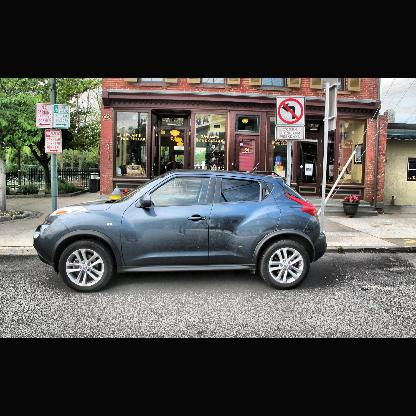Nissan Juke Hatchback 2012: (30, 168, 328, 293)
